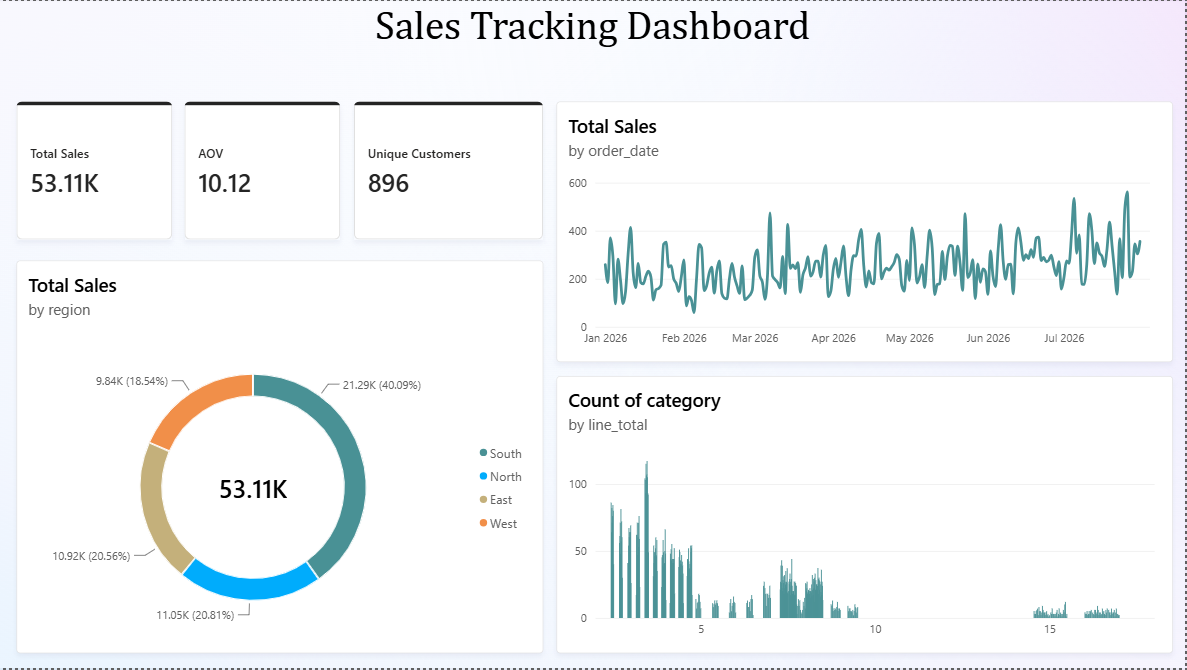

This screenshot's page, from the dashboard's own definition file:
{"tool":"powerbi","page":{"name":"Page 1","canvas":[1280,720],"ordinal":0},"visuals":[{"type":"cardVisual","fields":{"Data":["orders.Total Sales"]},"box":[17,107.7,168.2,149.3],"z":0},{"type":"cardVisual","fields":{"Data":["orders.AOV"]},"box":[198.4,107.7,168.2,149.3],"z":1000},{"type":"cardVisual","fields":{"Data":["orders.Unique Customers"]},"box":[381.7,107.7,204.1,149.3],"z":2000},{"type":"lineChart","fields":{"Category":["orders.order_date"],"Y":["orders.Total Sales"]},"box":[600.9,107.7,665.2,281.6],"z":3000},{"type":"donutChart","fields":{"Category":["orders.region"],"Y":["orders.Total Sales"]},"box":[17,279.7,568.8,281.6],"z":4000},{"type":"columnChart","fields":{"Category":["order_items.line_total"],"Y":["CountNonNull(order_items.category)"]},"box":[600.9,404.4,665.2,315.6],"z":5000},{"type":"textbox","box":[355.3,0,568.8,47.2],"z":5001}]}

Visuals, with their boxes in screenshot pixels (x1, y1, x2, y2), scaled from the page's 1280x720 canvas onto the 1187x670 screenshot:
cardVisual - orders.Total Sales: rect(16, 100, 172, 239)
cardVisual - orders.AOV: rect(184, 100, 340, 239)
cardVisual - orders.Unique Customers: rect(354, 100, 543, 239)
lineChart - orders.order_date x orders.Total Sales: rect(557, 100, 1174, 362)
donutChart - orders.region x orders.Total Sales: rect(16, 260, 543, 522)
columnChart - order_items.line_total x CountNonNull(order_items.category): rect(557, 376, 1174, 669)
textbox: rect(329, 0, 857, 44)
